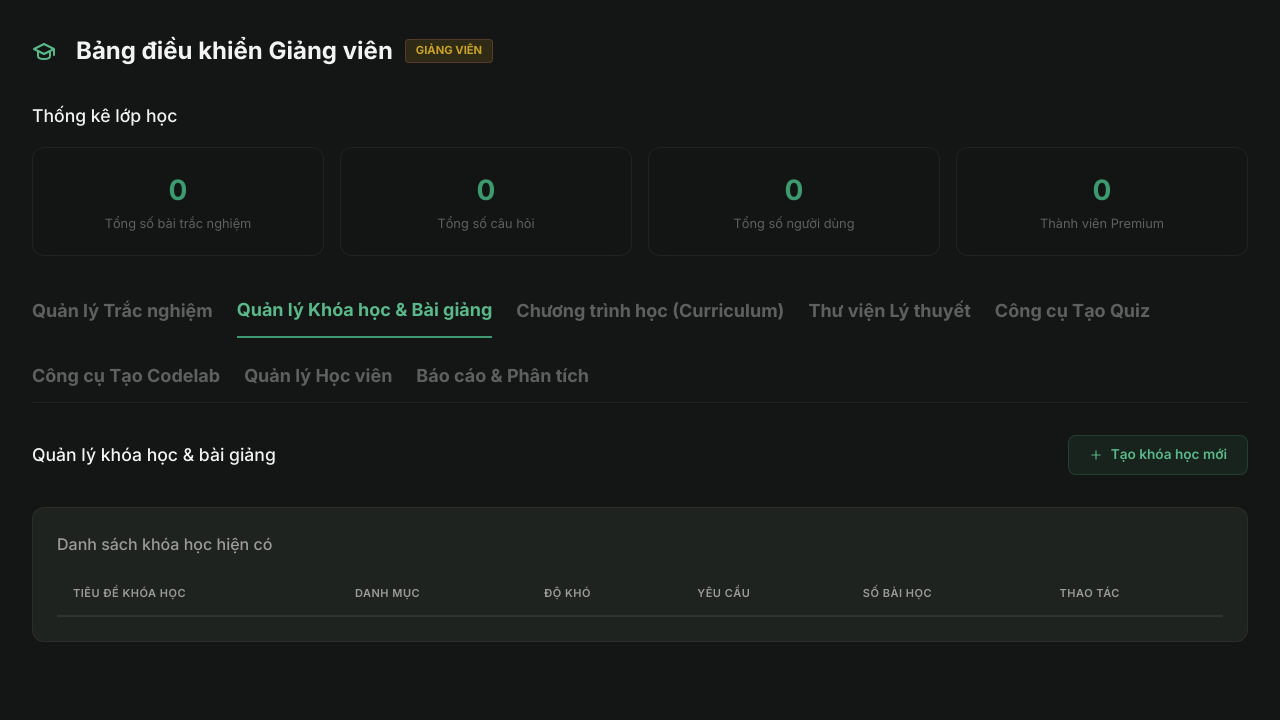
Test: TeacherPanelView — P0 Tests › Student List Render › shows empty state when no students found
This screenshot has width=1280, height=720.
Click the tab "Quản lý Học viên" at point(318, 382), box x1=244 y1=362 x2=392 y2=402
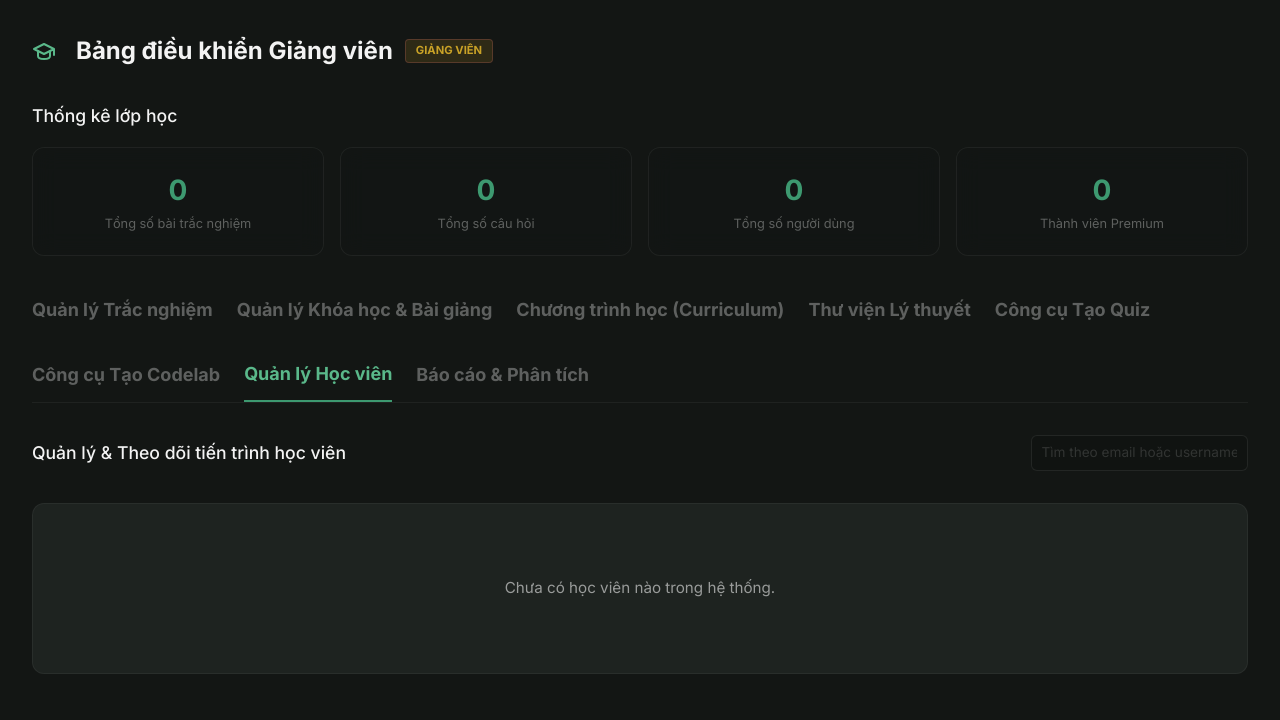
expect the text "Chưa có học viên nào trong hệ thống" is shown: met, box x1=505 y1=578 x2=775 y2=597
